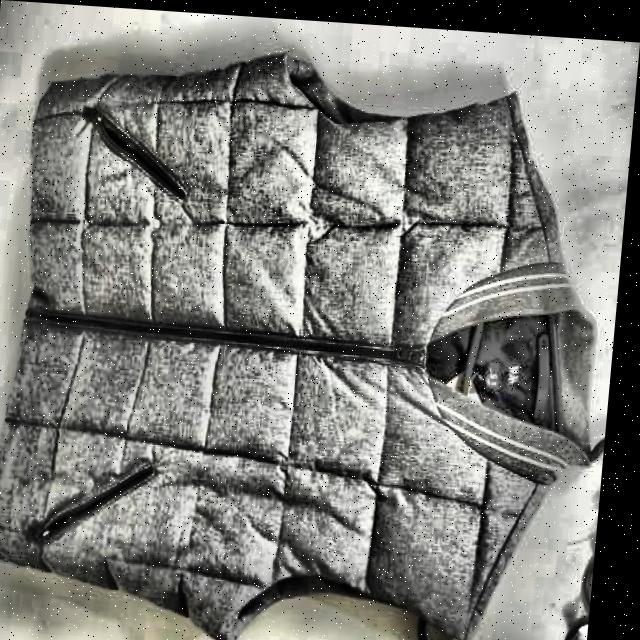clothes: (0, 30, 621, 640)
